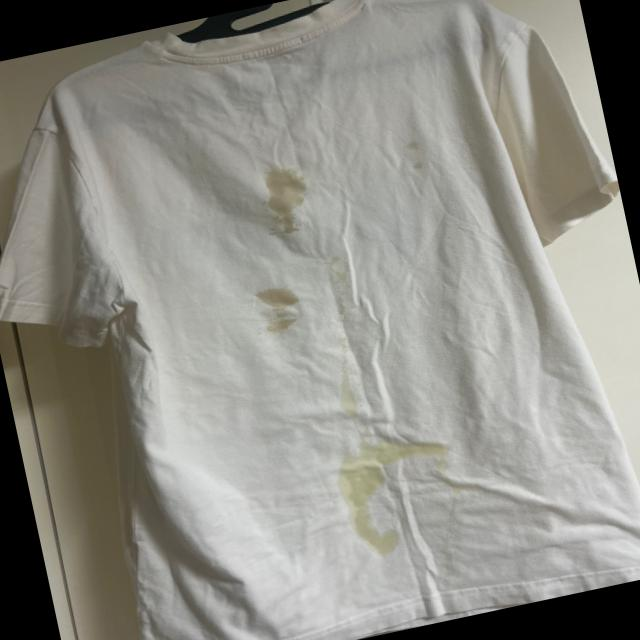stain: (332, 421, 454, 488), (333, 472, 410, 566), (255, 157, 328, 246), (246, 279, 310, 340), (397, 132, 448, 185)
